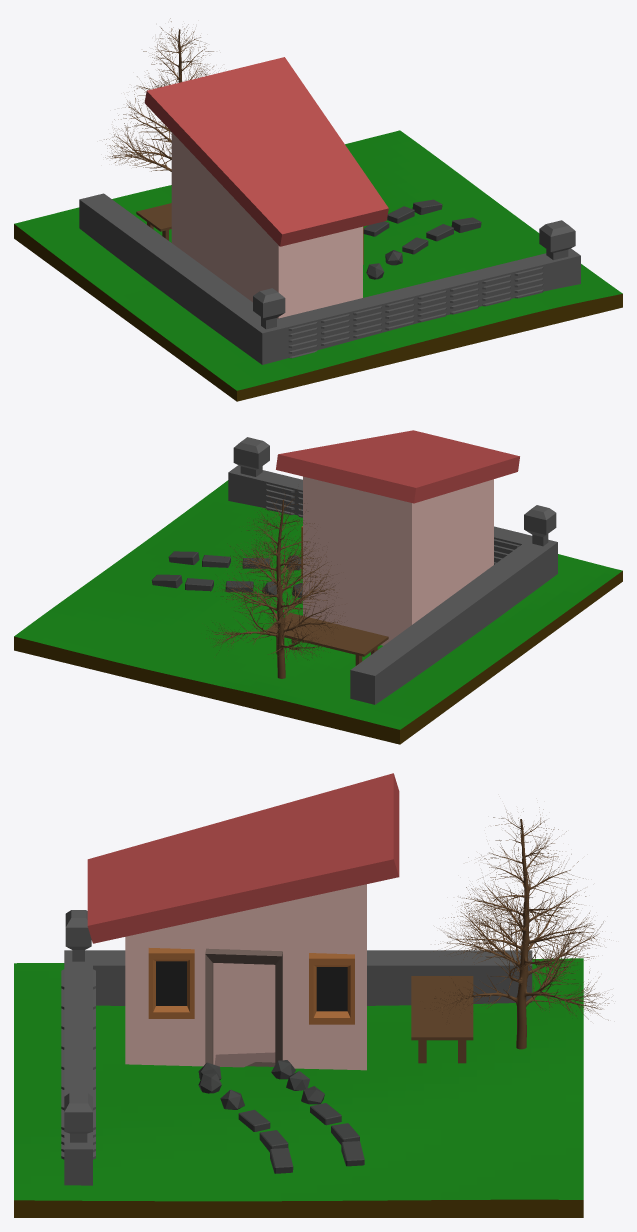
File: SideRoomPlaceholder.fbx
3 views of the same model, one above another, from view 1: azimuth 30°, elevation 25°; view 2: azimuth 150°, elevation 25°; view 3: azimuth 270°, elevation 25° (orthographic). The views are drawn at different scales.
Parts seen in each view (by area): view 1: Plane, Cube, Cube.003, Tree_2514, Icosphere.005, Table.002; view 2: Plane, Cube, Cube.003, Tree_2514, Table.002, Icosphere.005; view 3: Plane, Cube, Cube.003, Tree_2514, Cube.001, Icosphere.005, Table.002, Cube.002.
Part boxes in pixels (box(x1,y1,x2,y2)): Plane: box(14, 130, 622, 401); Cube: box(144, 57, 388, 318); Cube.003: box(79, 193, 580, 364); Tree_2514: box(104, 18, 213, 171); Icosphere.005: box(363, 199, 481, 279); Table.002: box(136, 203, 171, 240); Plane: box(14, 480, 622, 744); Cube: box(276, 430, 519, 645); Cube.003: box(228, 437, 557, 704); Tree_2514: box(206, 494, 343, 678); Table.002: box(266, 613, 388, 665); Icosphere.005: box(151, 551, 302, 597); Plane: box(14, 958, 583, 1217); Cube: box(87, 773, 399, 1070); Cube.003: box(61, 910, 532, 1185); Tree_2514: box(423, 807, 609, 1049); Cube.001: box(148, 948, 354, 1024); Icosphere.005: box(198, 1060, 364, 1173); Table.002: box(411, 976, 473, 1063); Cube.002: box(205, 948, 282, 1066).
Size of the model in its own units: 15144 by 7920 by 16186.
